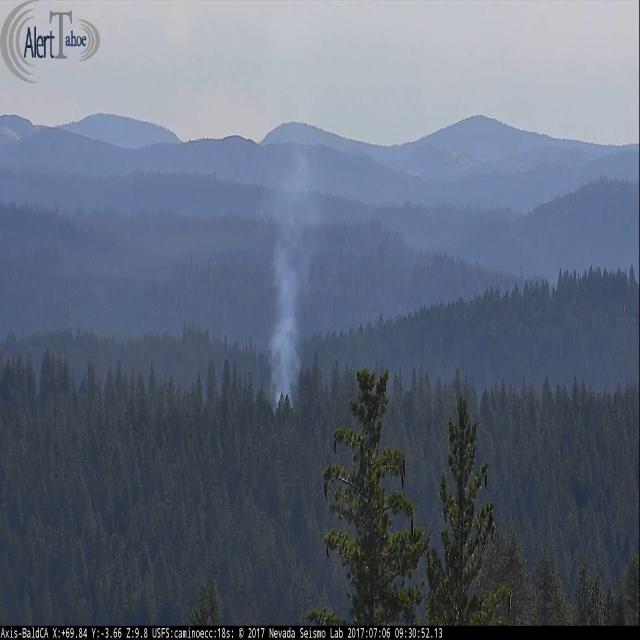smoke: (270, 156, 306, 413)
